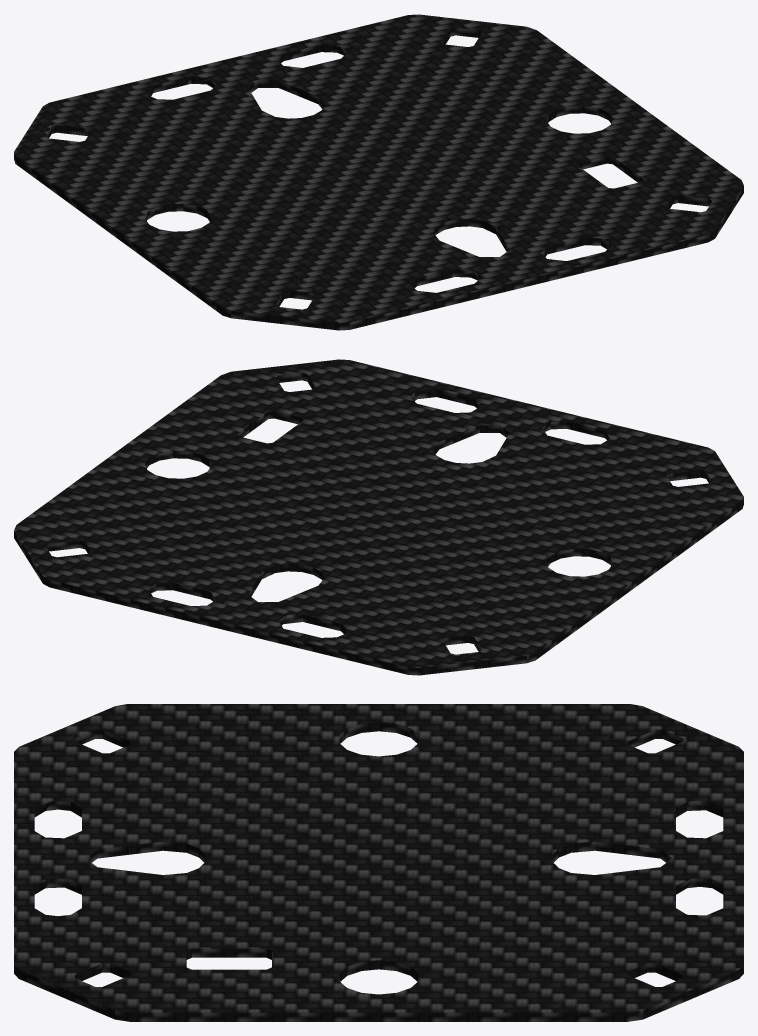
The model's file is bottom_board_mesh_file.dae.
3 views of the same model, one above another, from view 1: azimuth 30°, elevation 25°; view 2: azimuth 150°, elevation 25°; view 3: azimuth 270°, elevation 25° (orthographic). The views are drawn at different scales.
Visible parts, largest first — view 1: Bottom Board Mesh File; view 2: Bottom Board Mesh File; view 3: Bottom Board Mesh File.
Boxes of the visible parts, x1,y1,x2,y2 form: Bottom Board Mesh File: [14, 14, 743, 330]; Bottom Board Mesh File: [14, 359, 743, 675]; Bottom Board Mesh File: [14, 704, 743, 1021].
Size of the model in its own units: 0.1439 by 0.1438 by 0.002.
1 material, 1 textured.
